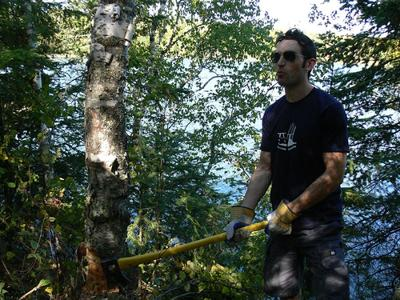person: (225, 28, 352, 300)
